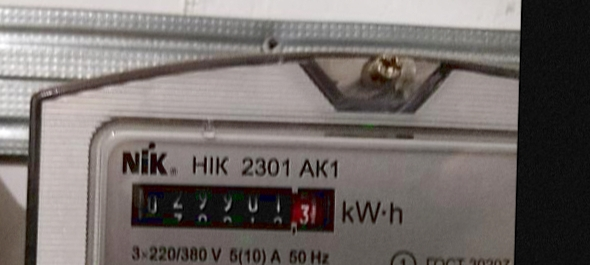0: (246, 189, 262, 214), (145, 192, 160, 214)
1: (273, 189, 286, 214)
2: (171, 188, 187, 210)
3: (298, 202, 313, 226)
9: (197, 188, 210, 210), (222, 190, 234, 213)
screen: (123, 174, 346, 242)
